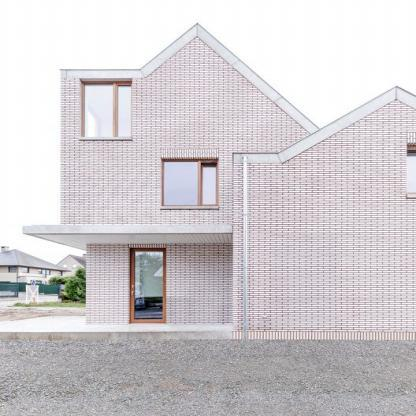Building Outline: (0, 23, 416, 340)
Cornice: (162, 149, 218, 160), (130, 244, 166, 248), (406, 132, 416, 146)
Door: (131, 249, 165, 323)
Floor Slab: (23, 226, 415, 232)
Molding: (232, 332, 416, 340)
Roof: (58, 23, 416, 163)
Sill: (160, 206, 219, 209), (79, 137, 131, 140), (407, 194, 416, 198)
Window: (82, 81, 131, 137), (162, 160, 217, 205), (407, 150, 416, 194)
